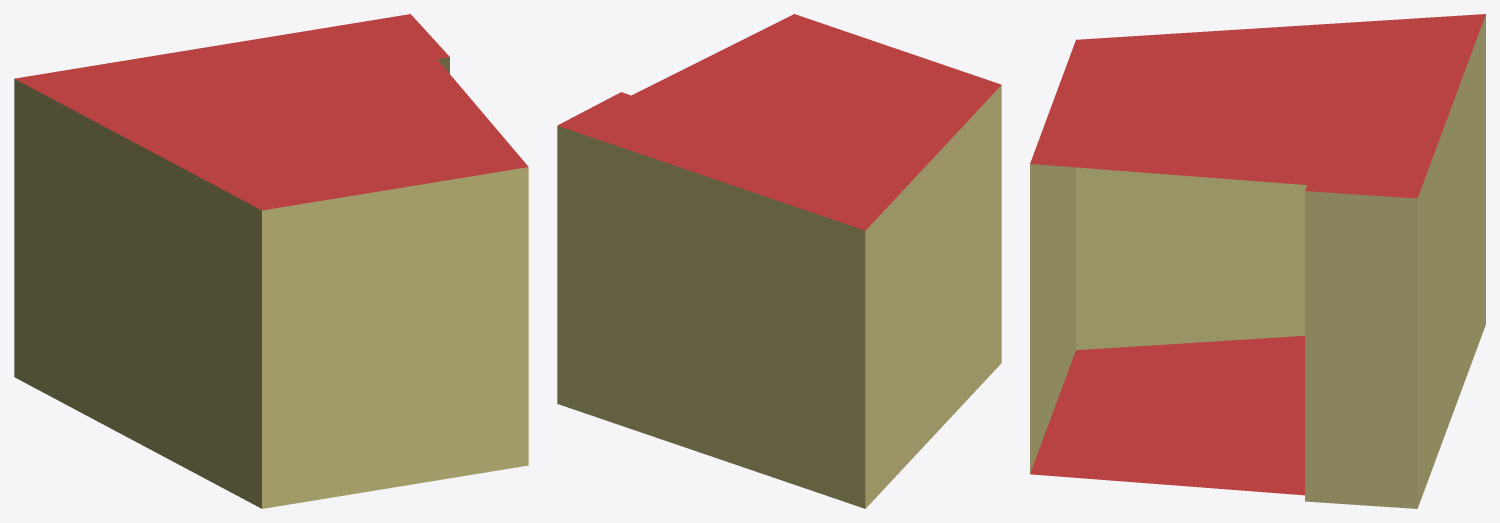
3 views of the same model, side by side, from view 1: azimuth 30°, elevation 25°; view 2: azimuth 150°, elevation 25°; view 3: azimuth 270°, elevation 25° (orthographic). The views are drawn at different scales.
Bounding box in the file's own units: 8.73 × 9.11 × 6.85.
